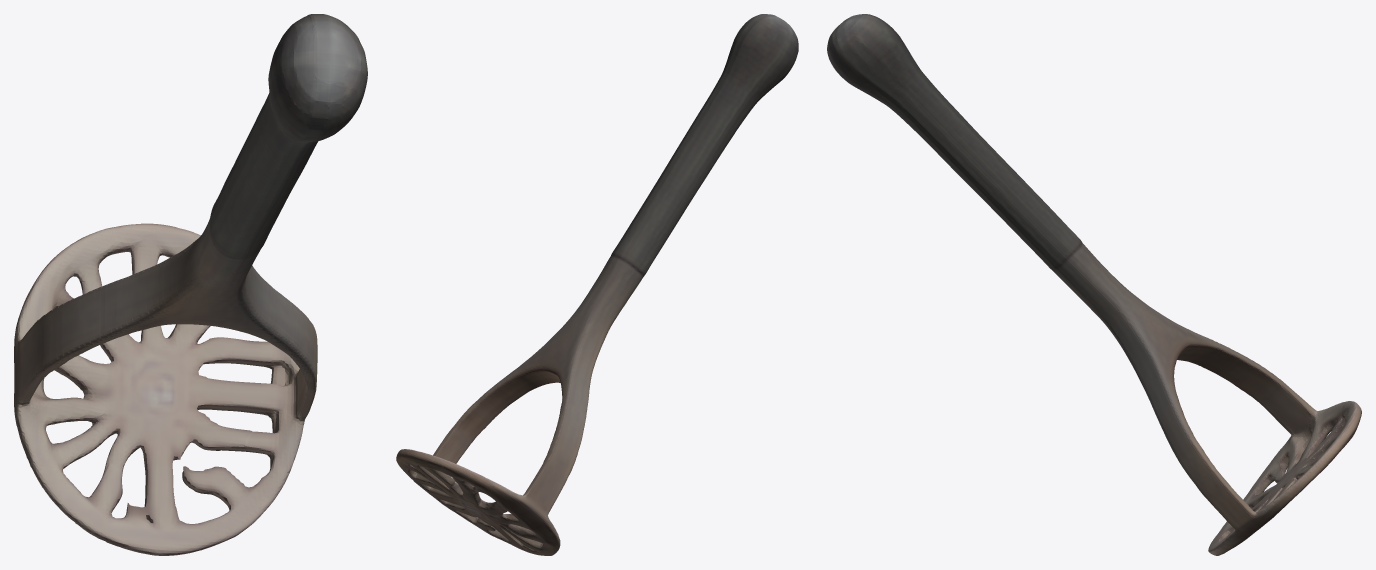
The model's file is frame_0051_source_000051_object.glb.
3 views of the same model, side by side, from view 1: azimuth 30°, elevation 25°; view 2: azimuth 150°, elevation 25°; view 3: azimuth 270°, elevation 25° (orthographic). The views are drawn at different scales.
Parts seen in each view (by area): view 1: world; view 2: world; view 3: world.
Part boxes in pixels (x1,y1,x2,y2): world: (14,14,367,555); world: (396,14,798,555); world: (827,14,1361,555).
Size of the model in its own units: 0.0983 by 0.2082 by 0.2084.
